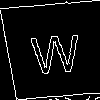W: (29, 25, 82, 75)
